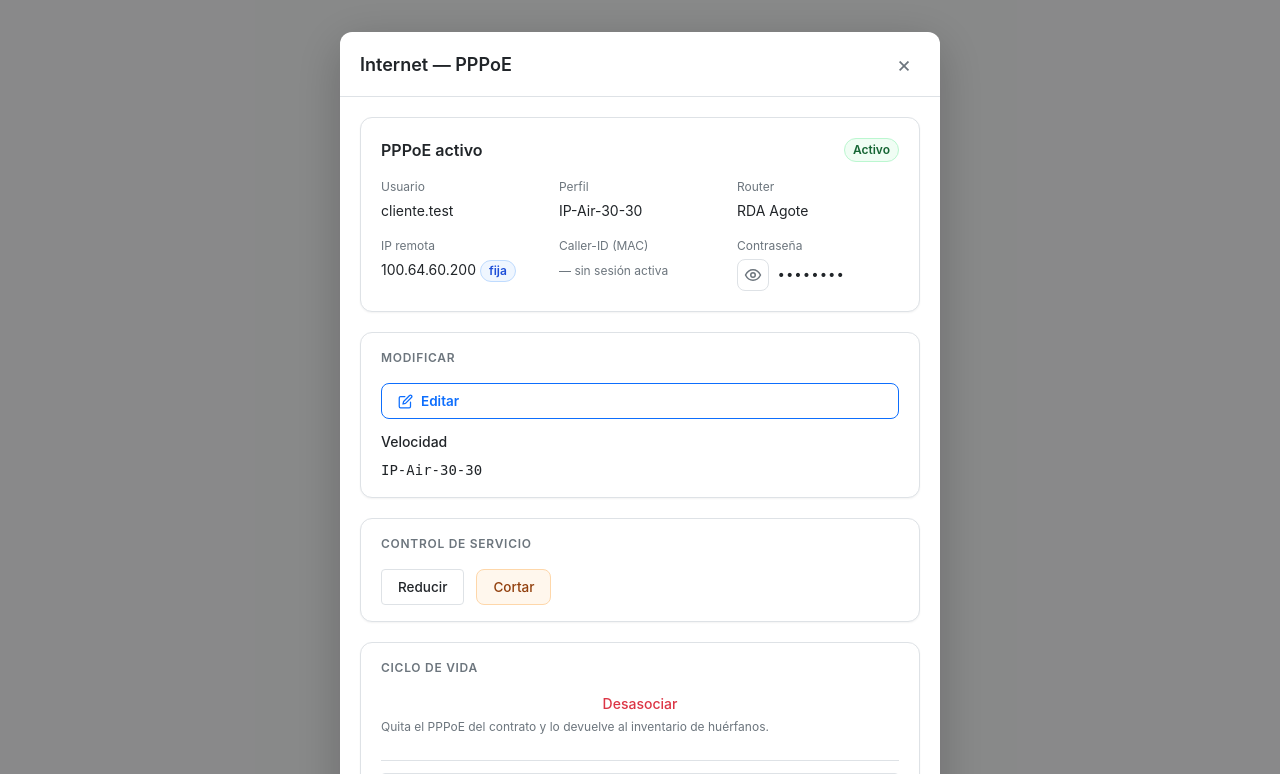
Test case: el toggle ofrece solo los tipos que el NAS soporta › NAS con ambas clases: se muestran las dos opciones
The width and height of the screenshot is (1280, 774).
Click the button "Editar" at [440, 401], box [381,383,899,419]
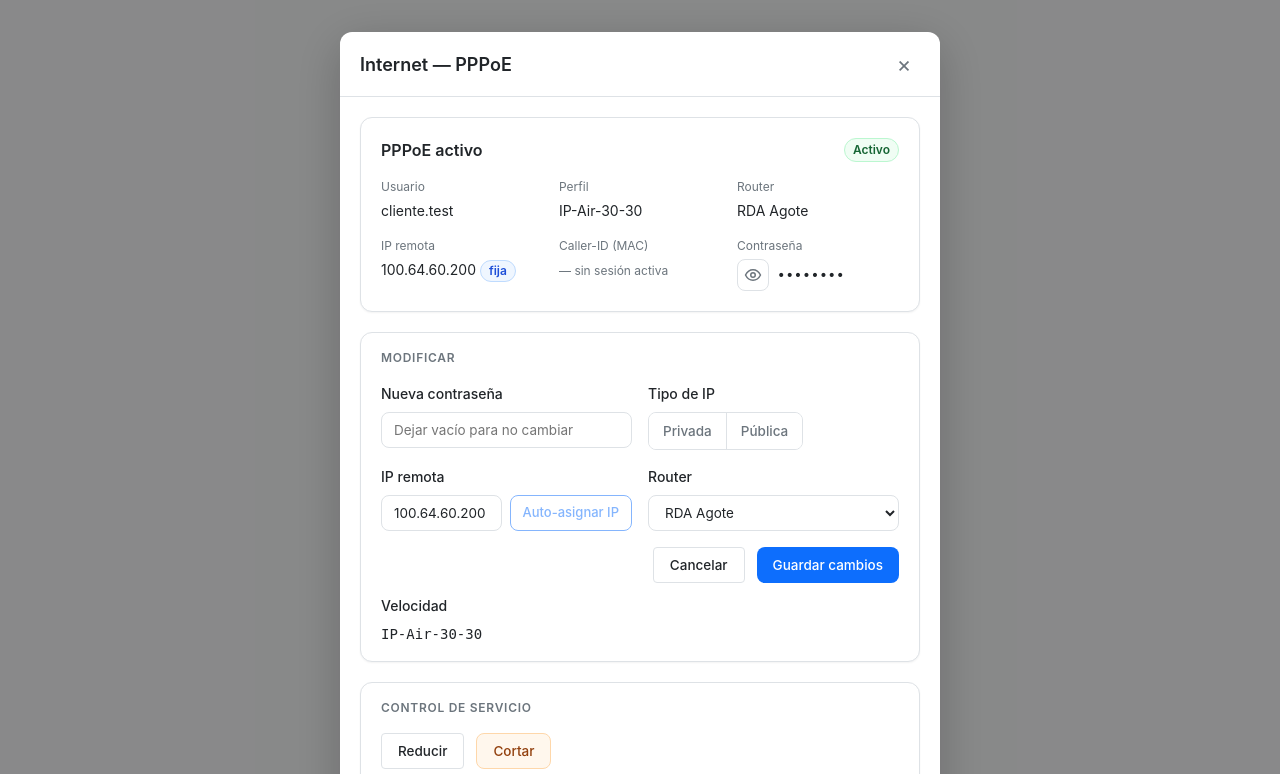
Result: the button "Privada" is shown at [649,413,727,449]
Result: the button "Pública" is shown at [727,413,802,449]
